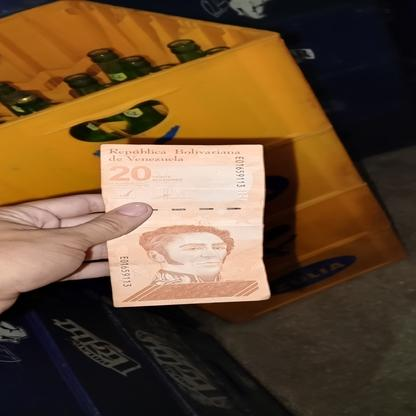twenty-front-vef: (100, 142, 270, 308)
